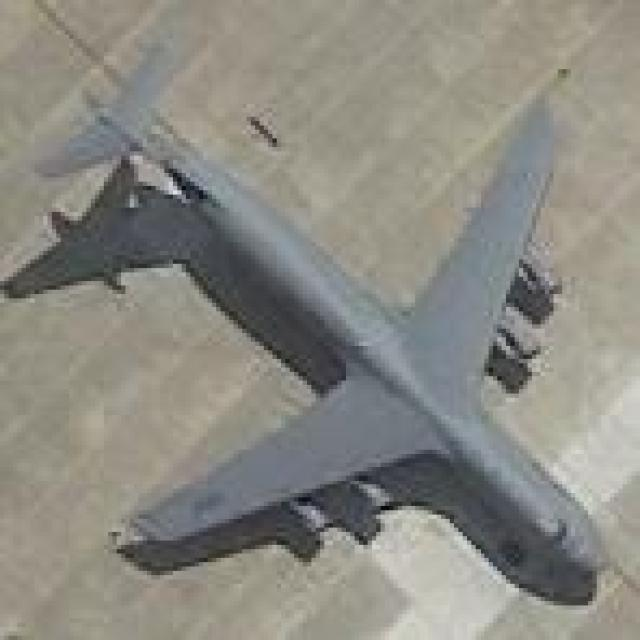C-5_TopDown: (0, 57, 610, 606)
